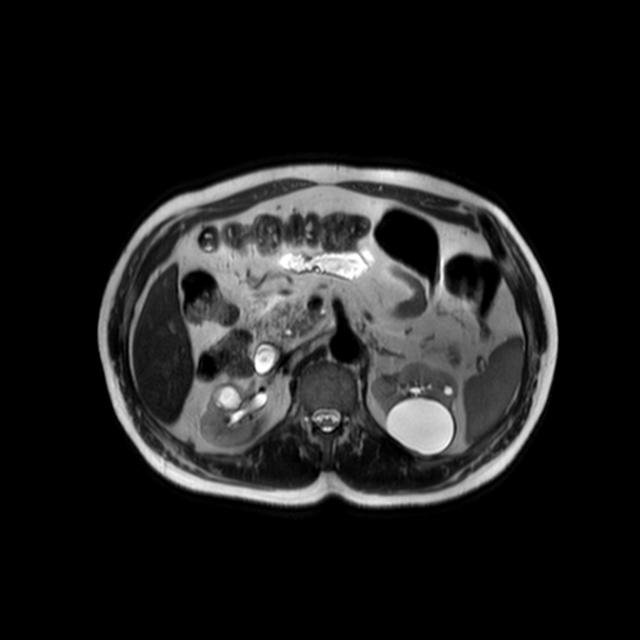sag: (200, 383, 261, 449)
sol: (371, 361, 460, 456)
